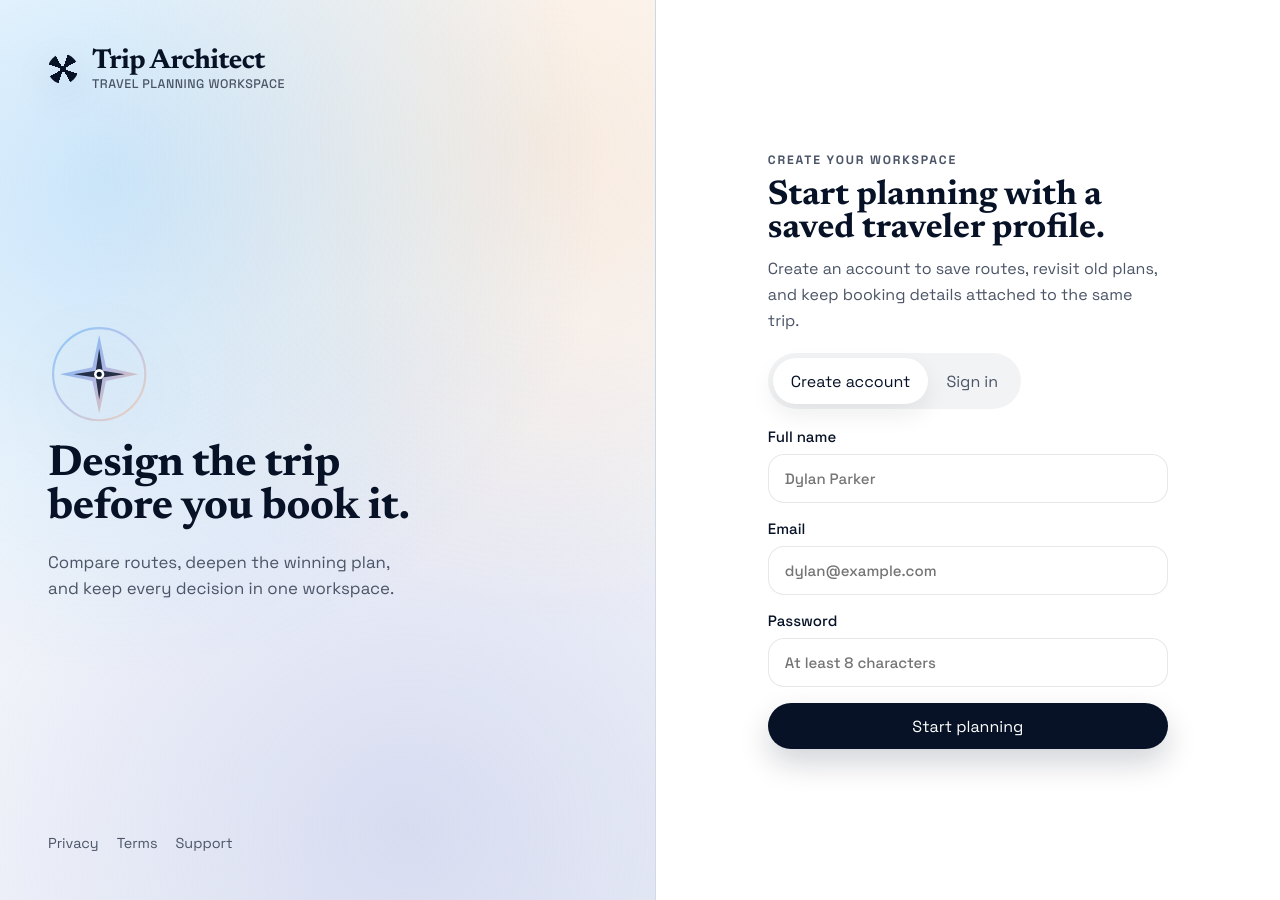
Test: auth panel switches to sign in mode
The width and height of the screenshot is (1280, 900).
Click the button "Sign in" at [972, 381], box [928,358,1016,404]
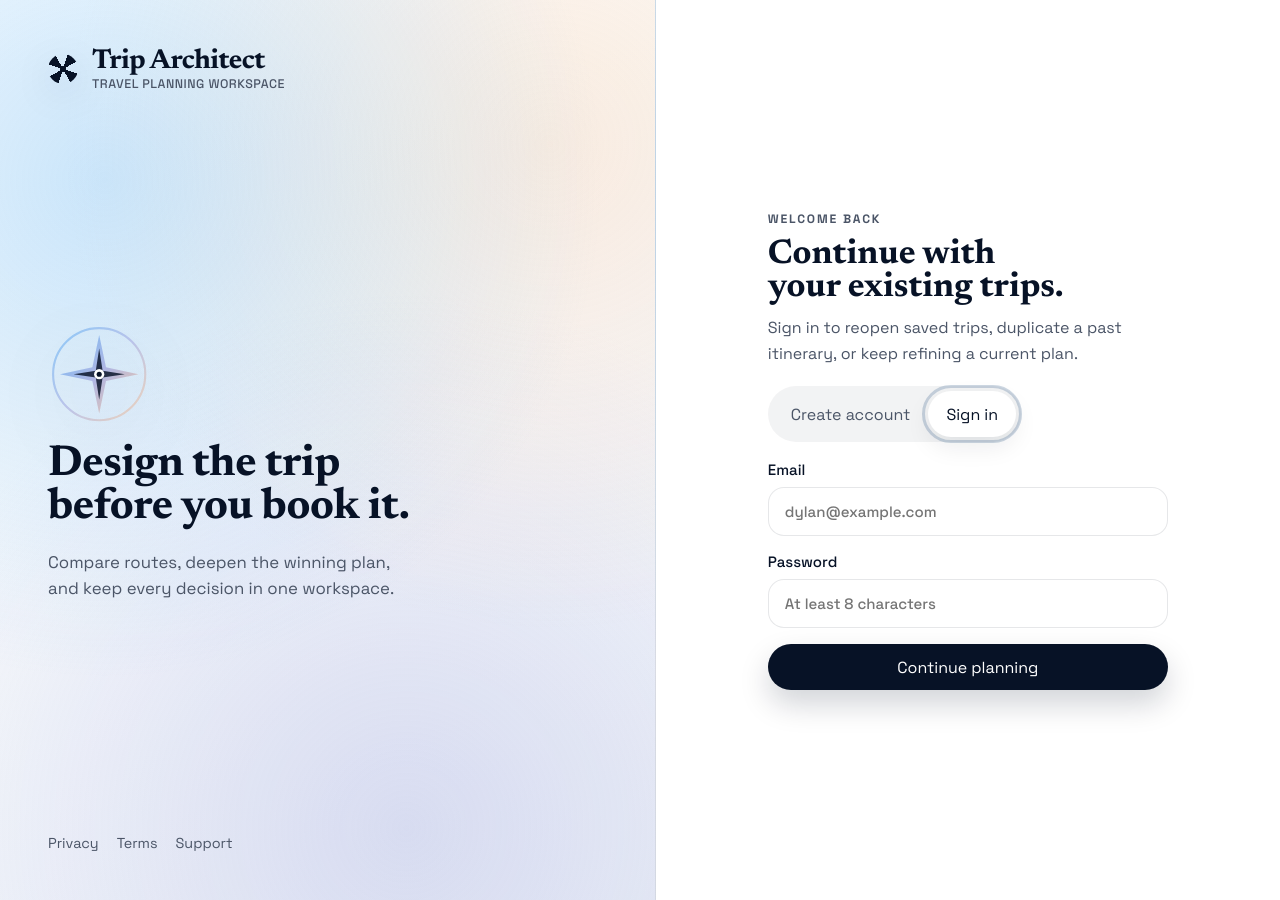
Now the button "Continue planning" is shown, box [768,644,1168,690]
